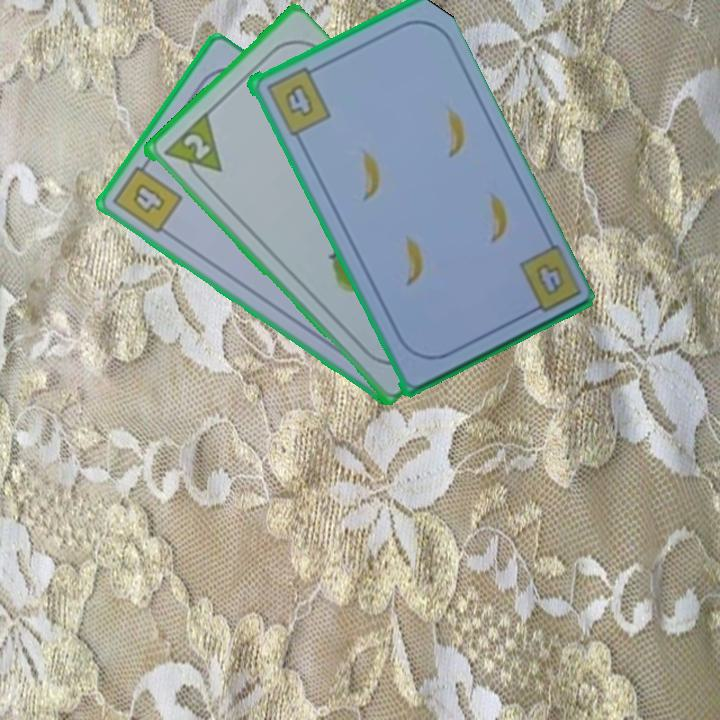2p: (159, 110, 225, 189)
4b: (109, 155, 186, 236), (262, 63, 333, 138), (514, 241, 582, 319)
